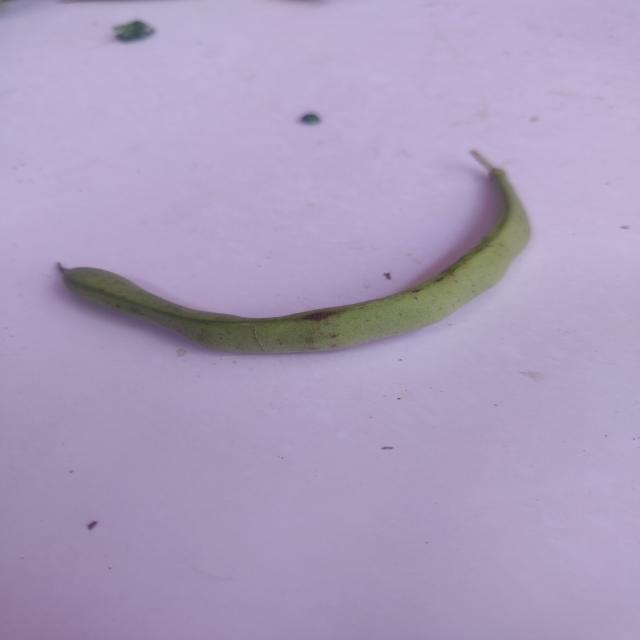Beans: (41, 147, 558, 369)
